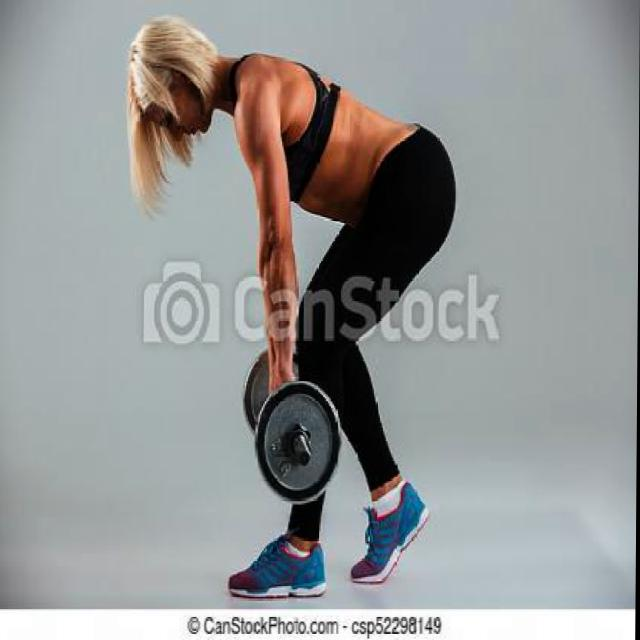barbell: (255, 379, 347, 508)
